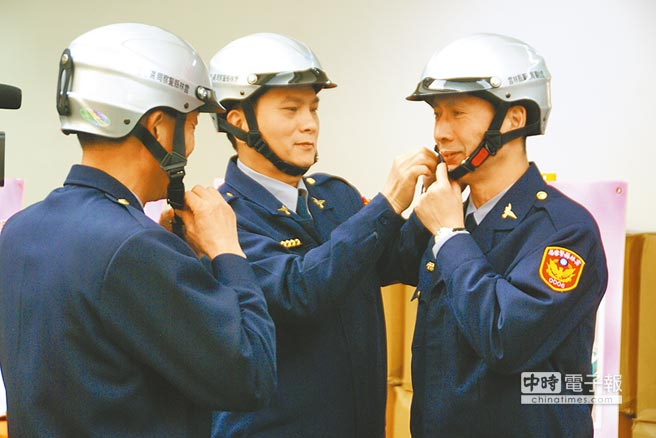helmet: (47, 34, 211, 143), (407, 29, 563, 131), (202, 36, 334, 115)
